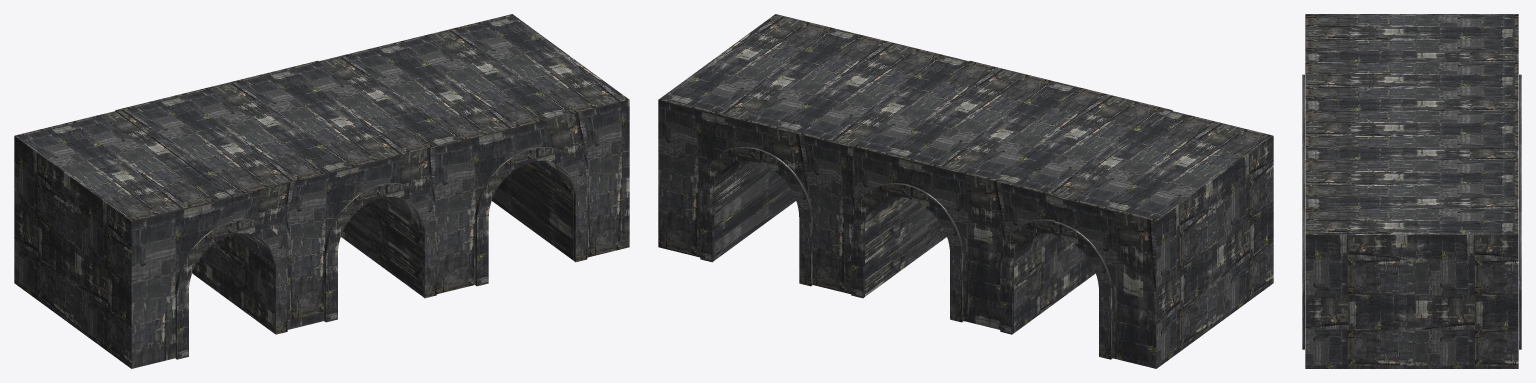
File: HoCitadel.glb
3 views of the same model, side by side, from view 1: azimuth 30°, elevation 25°; view 2: azimuth 150°, elevation 25°; view 3: azimuth 270°, elevation 25° (orthographic). The views are drawn at different scales.
Parts seen in each view (by area): view 1: Base.002, Base.001, Base; view 2: Base.002, Base.001, Base; view 3: Base.001, Base.002, Base.
Part boxes in pixels (left/top/right/bottom): Base.002: left=115, top=60, right=436, bottom=334; Base.001: left=319, top=14, right=629, bottom=294; Base: left=14, top=111, right=234, bottom=368; Base.002: left=851, top=60, right=1172, bottom=334; Base.001: left=658, top=14, right=968, bottom=294; Base: left=1053, top=111, right=1273, bottom=368; Base.001: left=1302, top=148, right=1521, bottom=368; Base.002: left=1302, top=58, right=1521, bottom=207; Base: left=1302, top=14, right=1521, bottom=79.
Bounding box in the file's own units: 111 × 31.73 × 46.78.
1 material, 1 textured.
